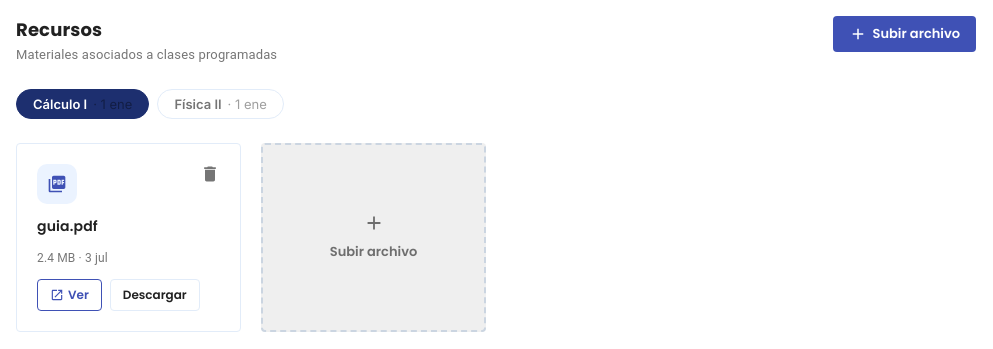
Test: the ResourcesTab component › switches the active group when a pill is clicked
What coordinates should you click on to do the following:
click the button with test id "dashboard-resources-pill-class-b"
I would click on:
 (221, 104)
Its box is [157,88,284,118].
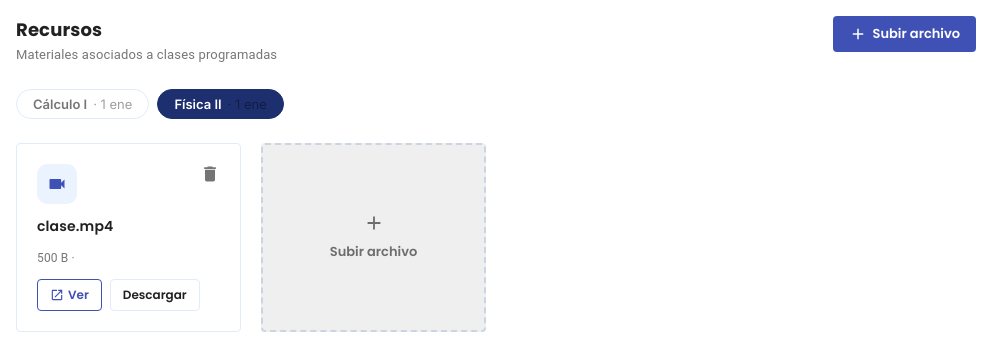
Check: the element with test id "dashboard-resource-file-file-b" is shown, box [16,142,241,332]
Check: the element with test id "dashboard-resource-file-file-a" is gone
